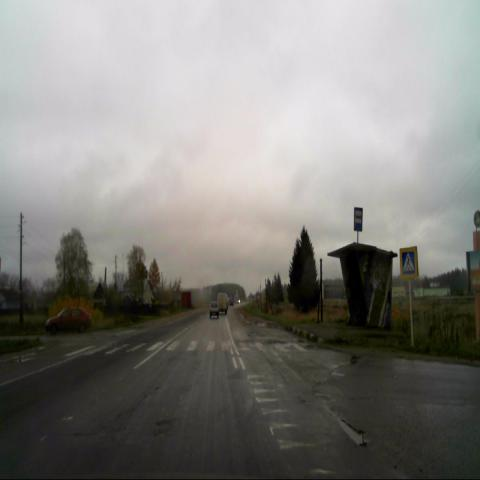5_19_1: (399, 246, 418, 279)
